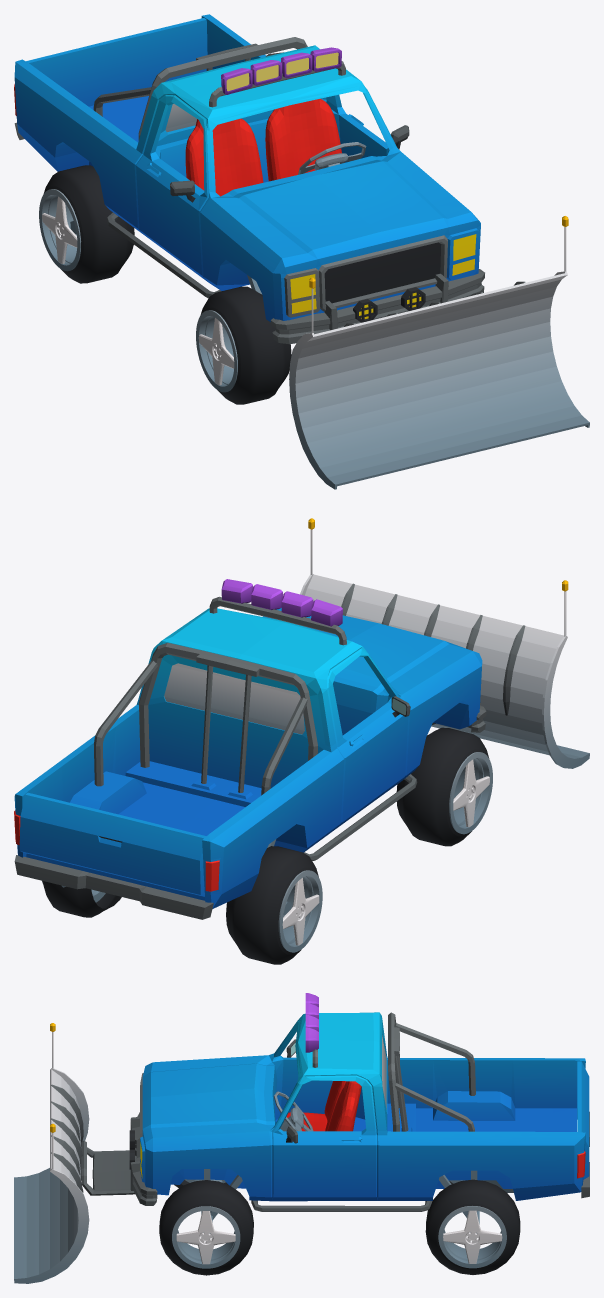
Rendered from Shoveler_Car1 1.fbx.
3 views of the same model, one above another, from view 1: azimuth 30°, elevation 25°; view 2: azimuth 150°, elevation 25°; view 3: azimuth 270°, elevation 25° (orthographic). The views are drawn at different scales.
Parts seen in each view (by area): view 1: Car.002, Shoveler.002, Wheel.007, Wheel.006; view 2: Car.002, Shoveler.002, Wheel.007, Wheel.006, Wheel.001; view 3: Car.002, Shoveler.002, Wheel.004, Wheel.001.
Boxes of the visible parts, <box> form: Car.002: <box>14,14,484,344</box>; Shoveler.002: <box>289,216,589,489</box>; Wheel.007: <box>196,286,291,404</box>; Wheel.006: <box>39,165,134,283</box>; Car.002: <box>14,579,486,919</box>; Shoveler.002: <box>300,518,589,768</box>; Wheel.007: <box>396,727,492,846</box>; Wheel.006: <box>226,846,322,964</box>; Wheel.001: <box>42,881,121,917</box>; Car.002: <box>81,993,589,1233</box>; Shoveler.002: <box>14,1023,89,1283</box>; Wheel.004: <box>159,1180,253,1275</box>; Wheel.001: <box>425,1179,520,1274</box>.
Bounding box in the file's own units: 316 × 312 × 745.
